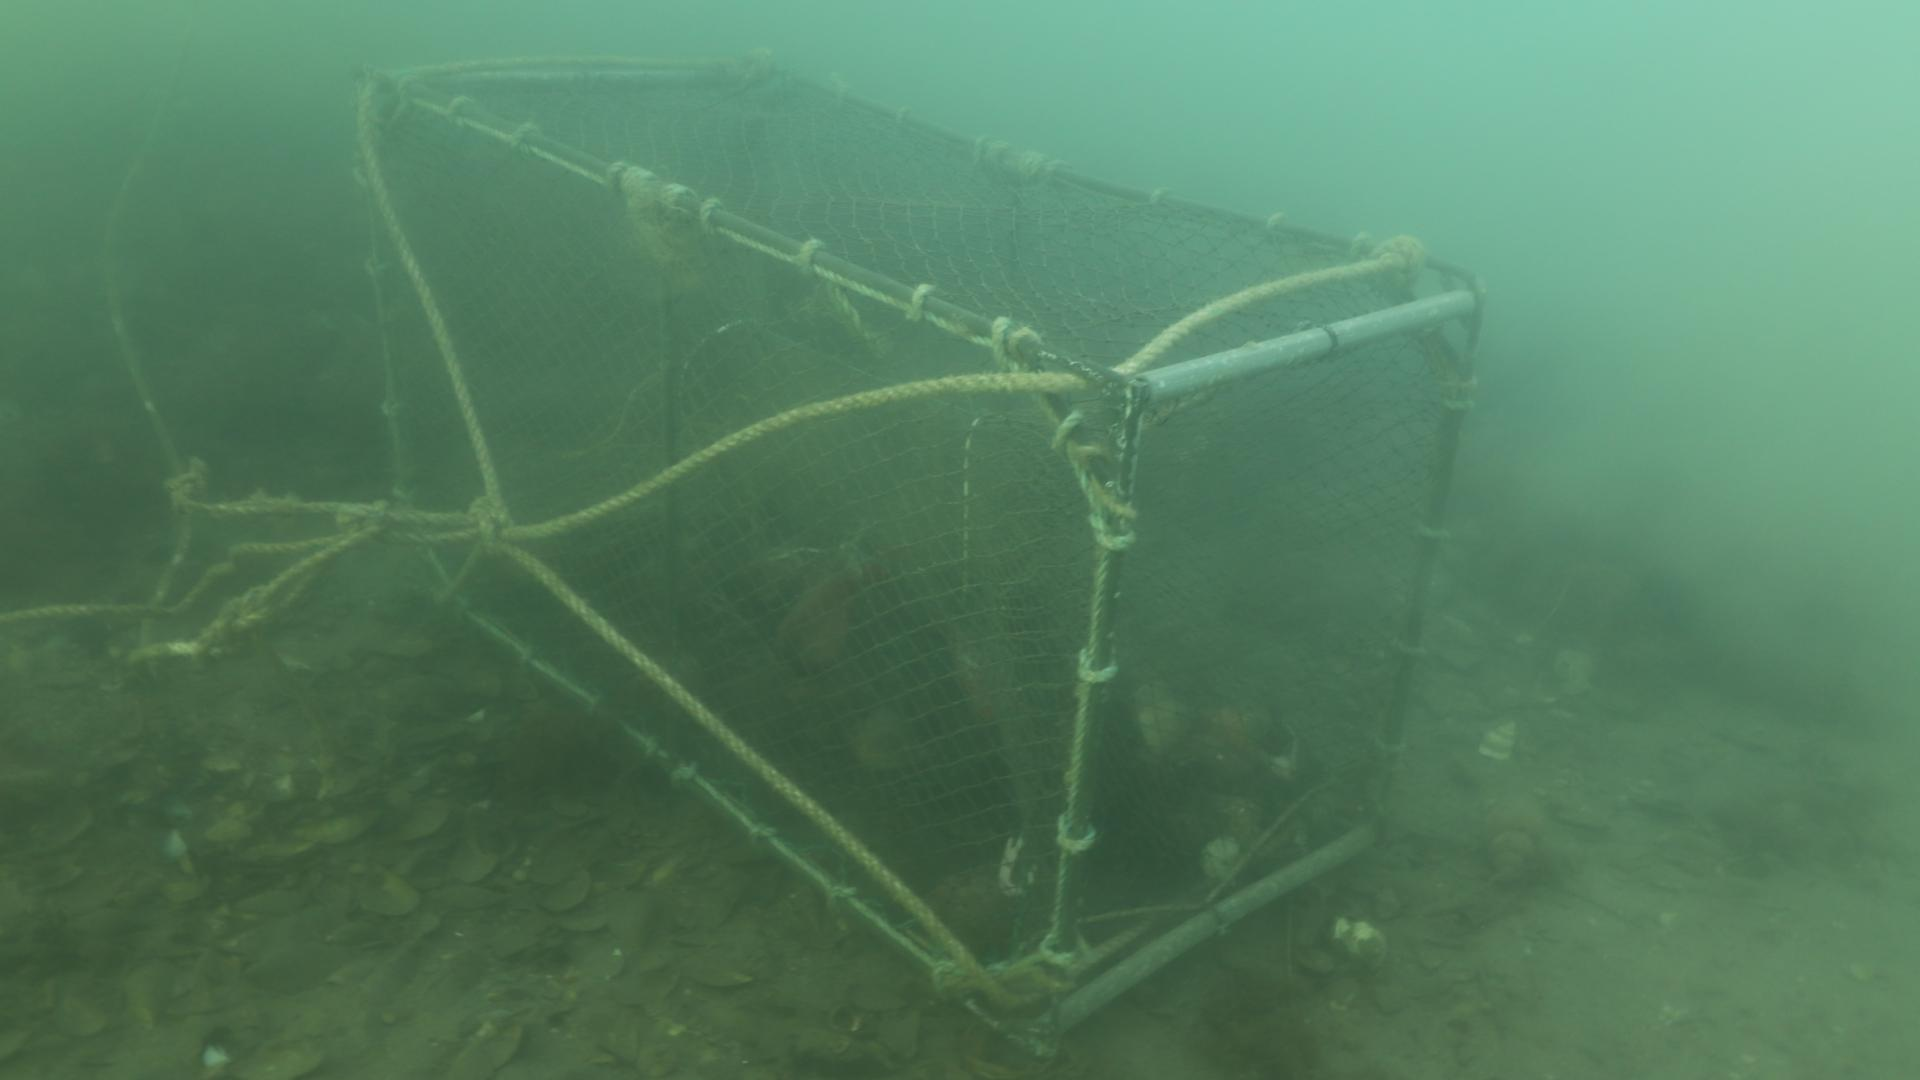bundle of ropes: (0, 131, 520, 683)
rectangular fish trap: (356, 59, 1484, 1052)
